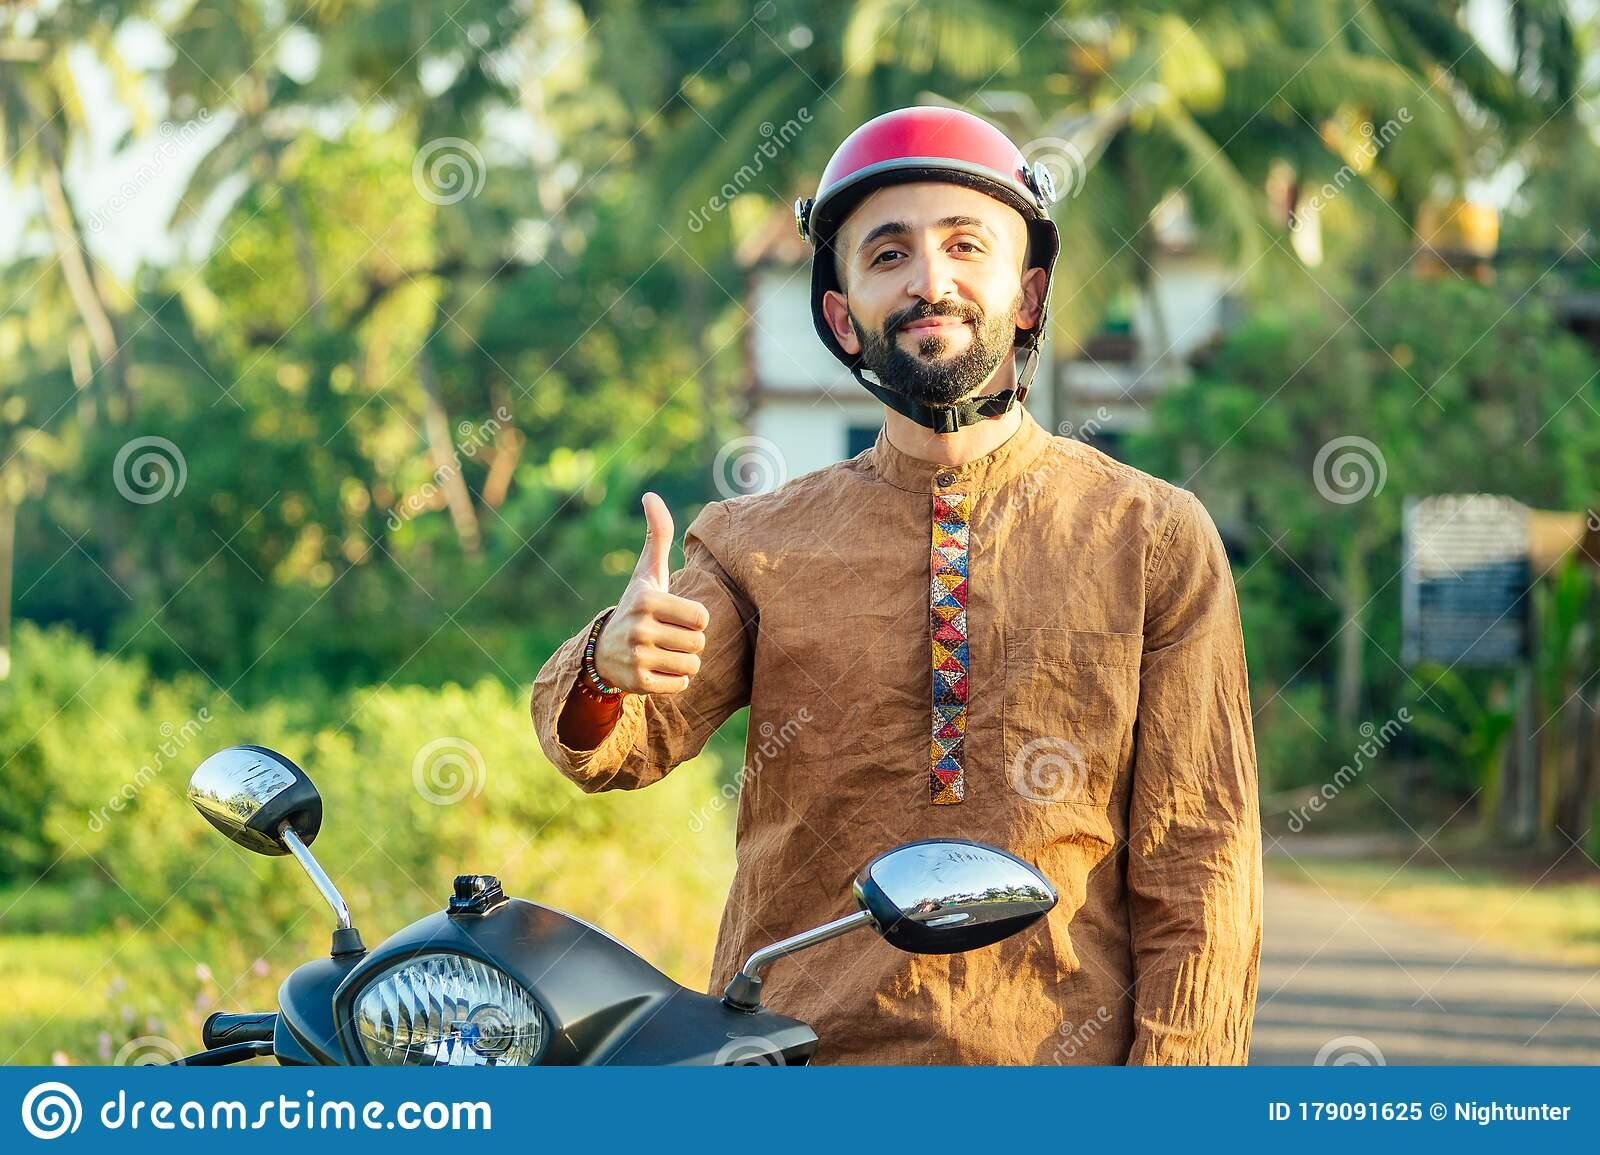Helmet: (802, 101, 1042, 245)
